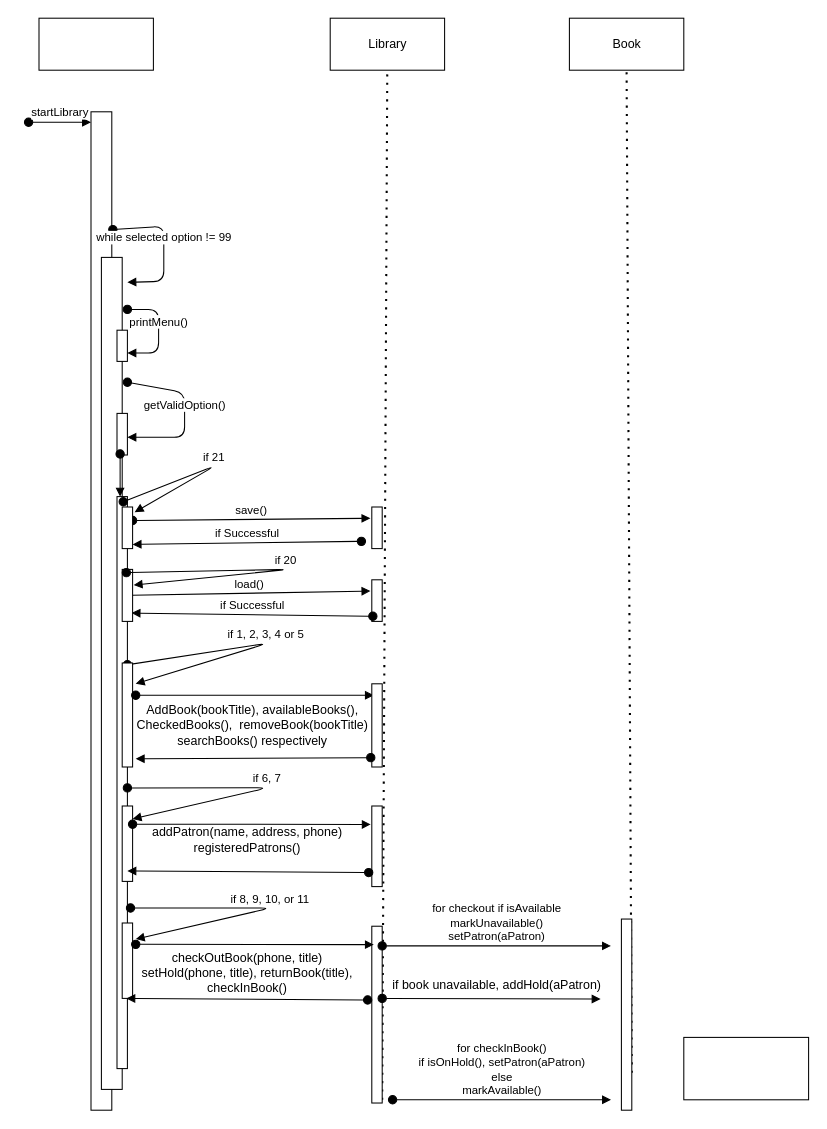
This 827x1129 diagram has some shape labels left out. The shapes that lost their labels are listed below. From the top down, each one's centre as x and y in pixels, then its label:
At (x=95, y=43): "menu".
At (x=746, y=1068): "All other function implementations should be obvious through name".
